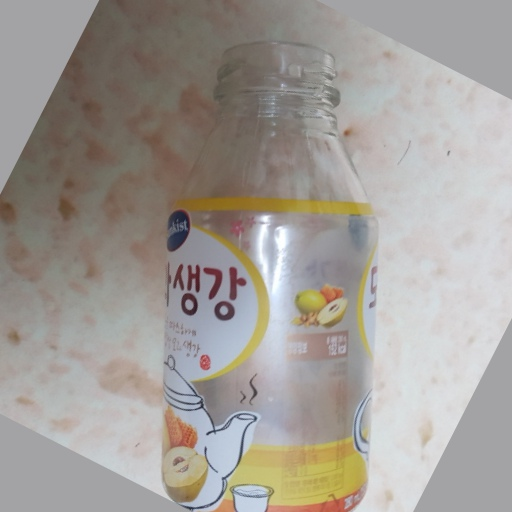Glass_4: (152, 37, 378, 512)
